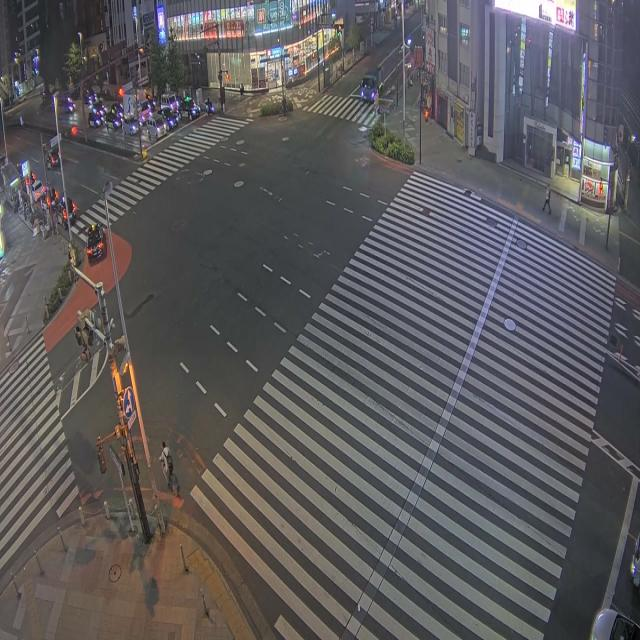car: (591, 609, 639, 639), (86, 224, 105, 261), (59, 196, 77, 224), (146, 116, 167, 140), (178, 96, 199, 119), (158, 107, 178, 129), (122, 114, 139, 135), (32, 180, 46, 202), (105, 112, 122, 130), (160, 94, 178, 111), (91, 99, 107, 118), (139, 101, 153, 122), (46, 149, 59, 168), (88, 112, 103, 127), (109, 102, 123, 118), (84, 90, 97, 106), (145, 92, 156, 109)
motorcycle: (631, 537, 639, 588), (204, 100, 214, 114)
